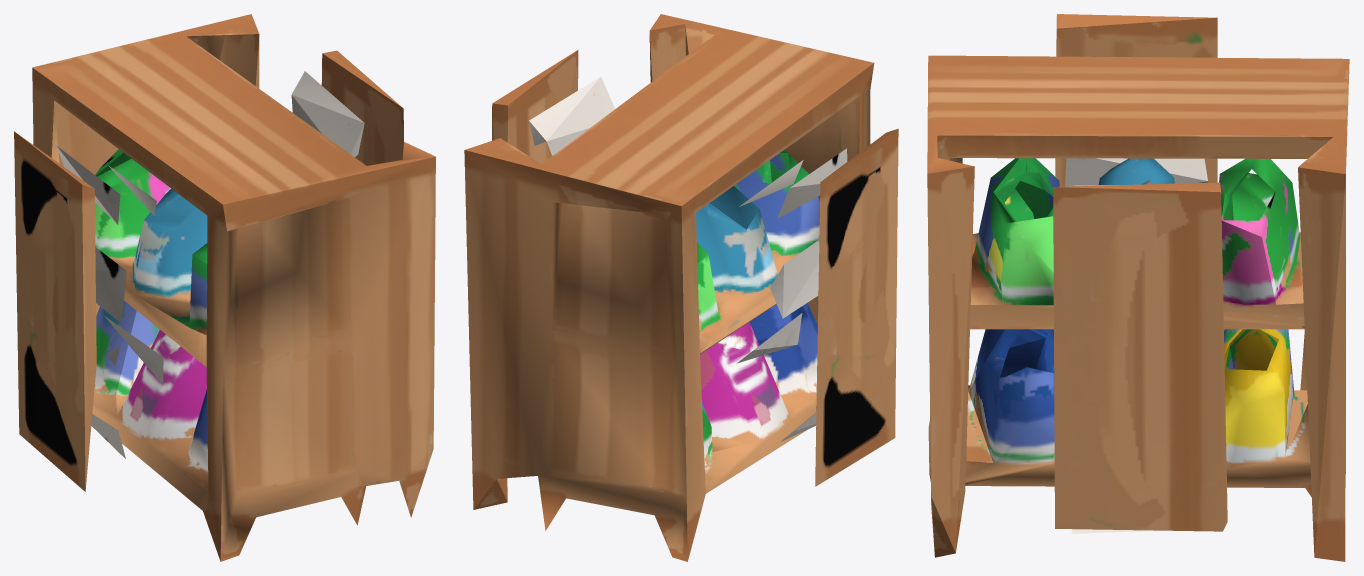
Rendered from shoe-cabinet.glb.
3 renders of one model, left to right at view 1: azimuth 30°, elevation 25°; view 2: azimuth 150°, elevation 25°; view 3: azimuth 270°, elevation 25°, orthographic. The views are drawn at different scales.
Visible parts, largest first — view 1: geometry_0.001; view 2: geometry_0.001; view 3: geometry_0.001.
Boxes of the visible parts, <box> form: geometry_0.001: <box>14,14,435,561</box>; geometry_0.001: <box>464,14,898,561</box>; geometry_0.001: <box>927,14,1349,561</box>.
Bounding box in the file's own units: 0.9592 × 1.01 × 0.9597.
Materials: 1 (1 with a texture image).
